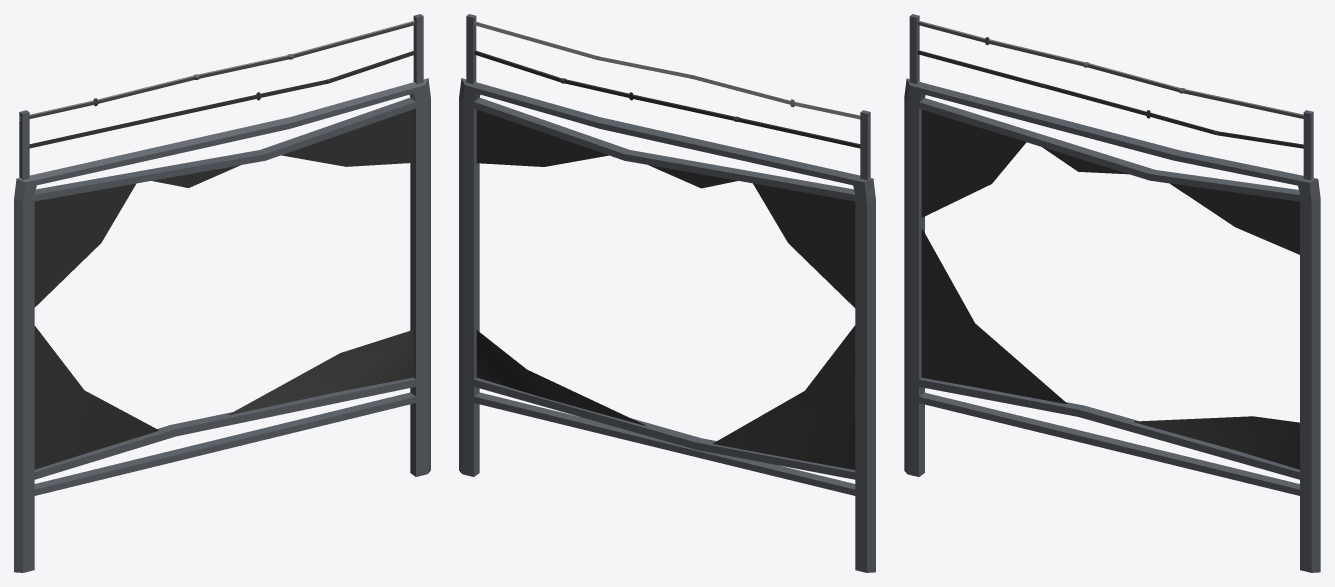
The model's file is SM_Prop_Fence_Damaged_03.fbx.
3 renders of one model, left to right at view 1: azimuth 30°, elevation 25°; view 2: azimuth 150°, elevation 25°; view 3: azimuth 330°, elevation 25°, orthographic.
Parts seen in each view (by area): view 1: SM_Prop_Fence_Damaged_03; view 2: SM_Prop_Fence_Damaged_03; view 3: SM_Prop_Fence_Damaged_03.
Boxes of the visible parts, <box> form: SM_Prop_Fence_Damaged_03: <box>14,14,430,572</box>; SM_Prop_Fence_Damaged_03: <box>459,14,875,572</box>; SM_Prop_Fence_Damaged_03: <box>904,14,1320,572</box>.
Size of the model in its own units: 303 by 319 by 18.64.
